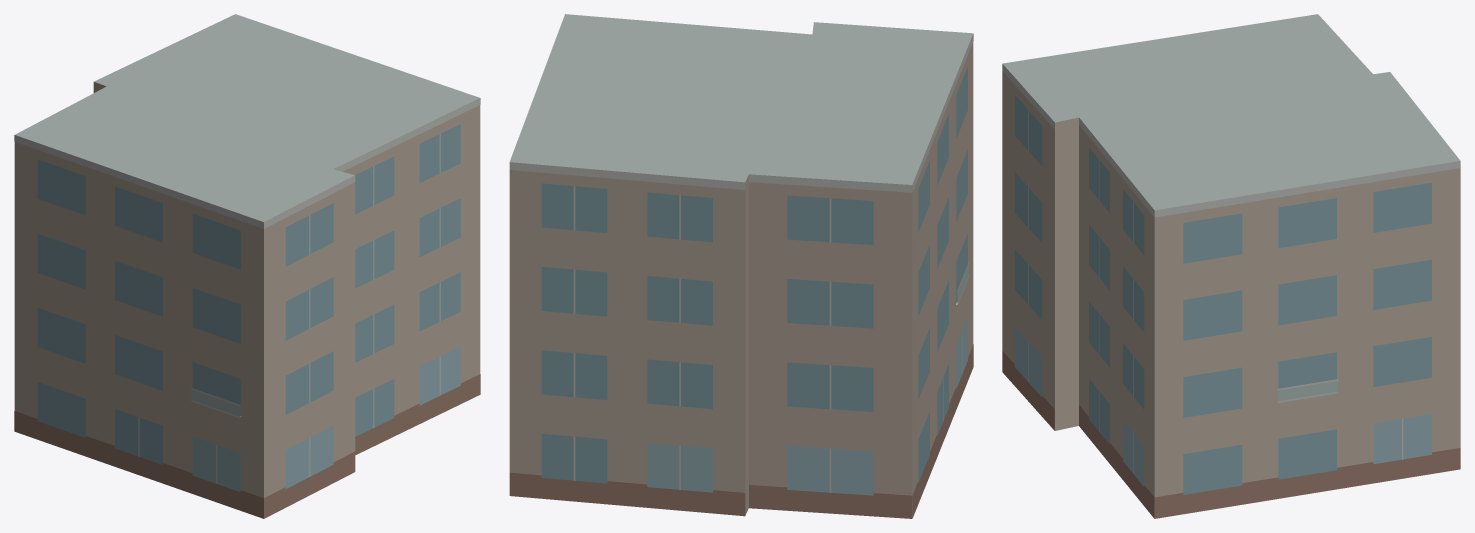
File: survey-upis-32864818.glb
3 renders of one model, left to right at view 1: azimuth 30°, elevation 25°; view 2: azimuth 150°, elevation 25°; view 3: azimuth 270°, elevation 25°, orthographic. The views are drawn at different scales.
Parts seen in each view (by area): view 1: survey-upis-32864818.tmp; view 2: survey-upis-32864818.tmp; view 3: survey-upis-32864818.tmp.
Boxes of the visible parts, x1=… form: survey-upis-32864818.tmp: x1=14, y1=14, x2=480, y2=518; survey-upis-32864818.tmp: x1=509, y1=14, x2=973, y2=518; survey-upis-32864818.tmp: x1=1002, y1=14, x2=1460, y2=518.
Bounding box in the file's own units: 14.35 × 10.5 × 14.15.
